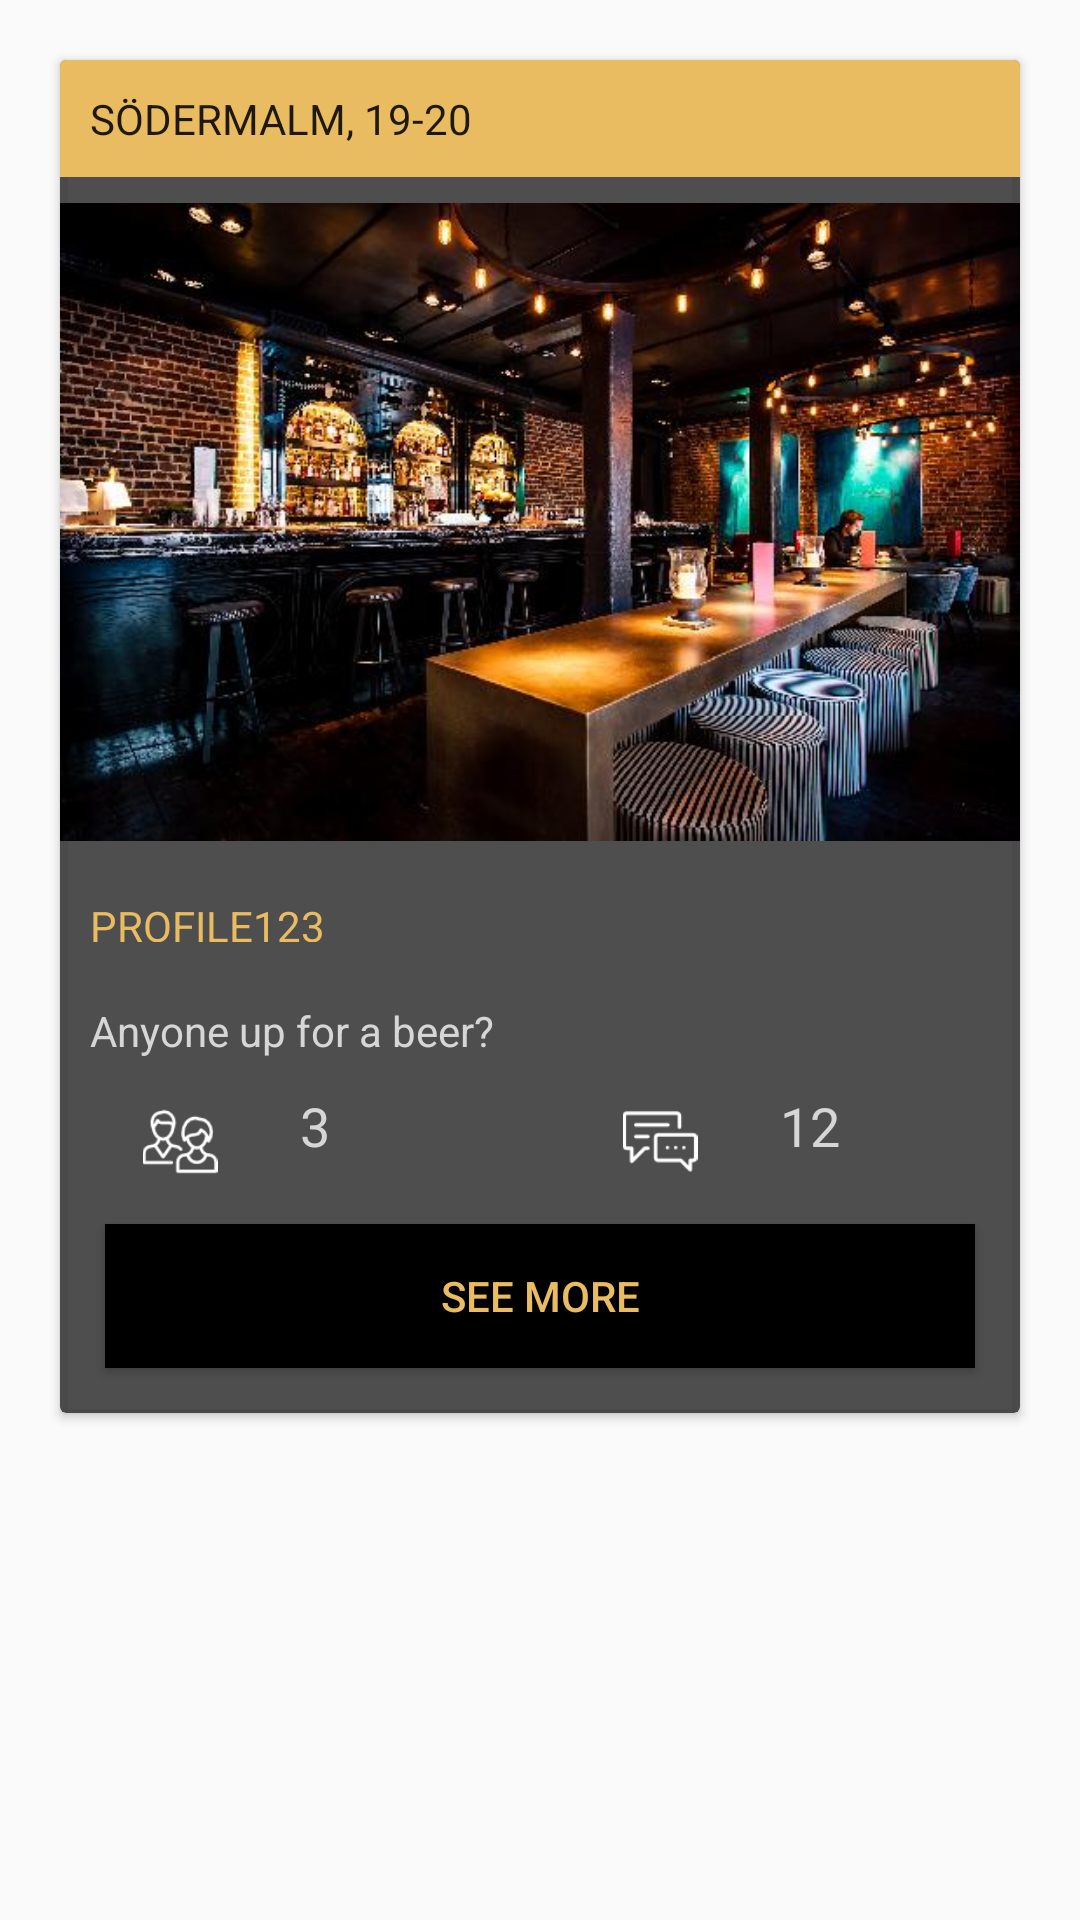

Named icons in this screenshot (1080w x 1920h) and their centers, [x,y]:
chat: [660,1141]
users: [180,1142]
